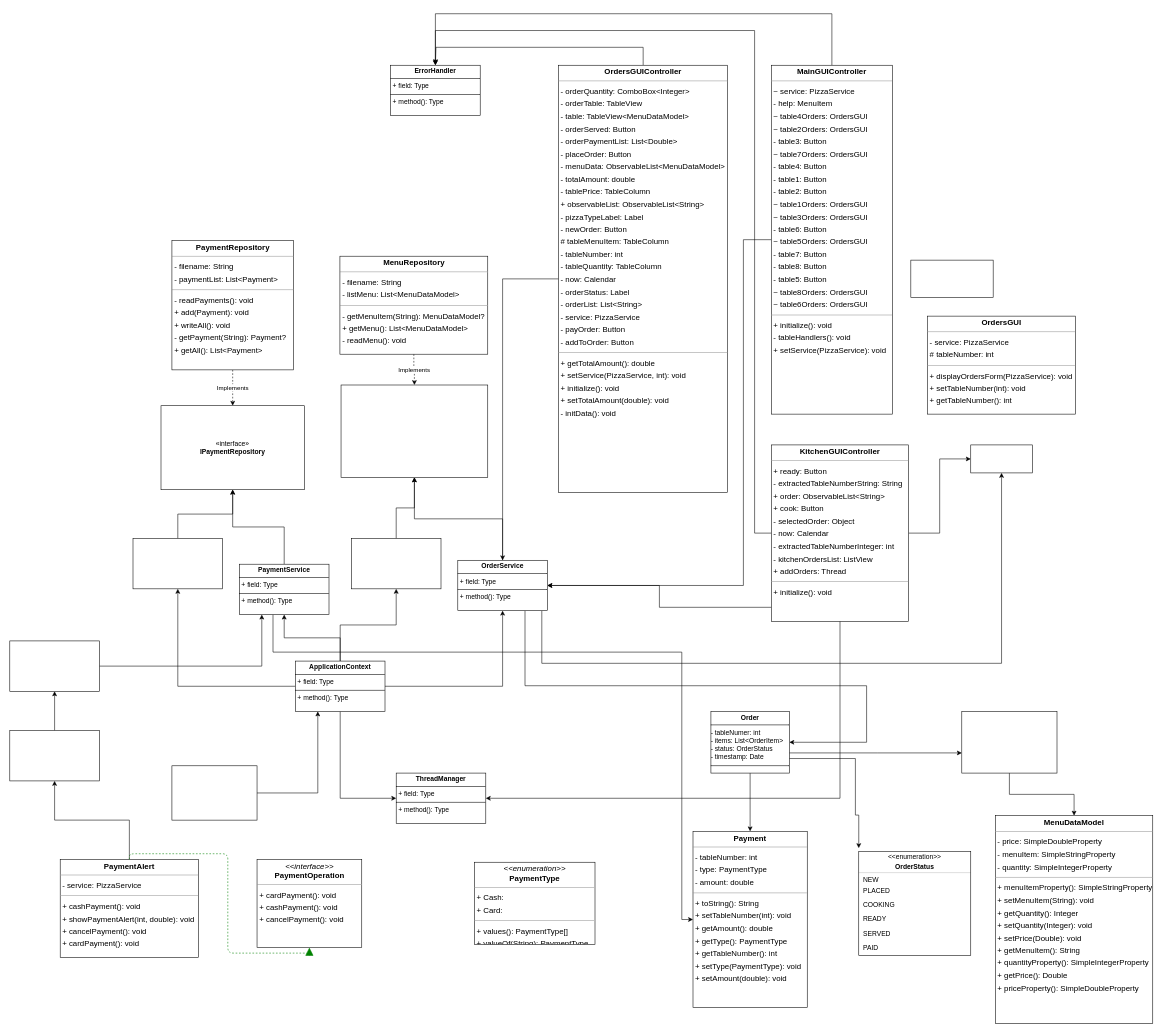
Some shapes in this 1163 by 1033 pixel diagram are drawn without their labels. The box of each missing label's shape, as (x1, y1, x2, y2) in pixels:
KitchenGUI + KitchenGUI(): void: (910, 260, 993, 298)
Main + main(String[]): void + start(Stage): void: (171, 765, 257, 820)
MenuService + field: Type + method(): Type: (351, 538, 441, 589)
OrderItem - menuItem: MenuDataModel - quantity: int - price: double: (961, 711, 1057, 773)
PaymentDialogService + field: Type + method(): Type: (9, 730, 99, 781)
PaymentProcessor + field: Type + method(): Type: (9, 640, 99, 691)
ReportingService + field: Type + method(): Type: (132, 538, 223, 589)
«interface» IMenuRepository: (340, 384, 488, 477)
«interface» KitchenObserver: (970, 444, 1032, 473)
